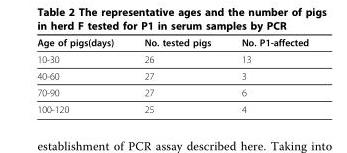table: (36, 36, 307, 114)
table column: (128, 36, 225, 114), (36, 36, 128, 114), (225, 36, 307, 114)
table column header: (36, 36, 307, 50)
table row: (36, 50, 307, 67), (36, 83, 307, 100), (36, 67, 307, 83), (36, 36, 307, 50), (36, 100, 307, 114)
